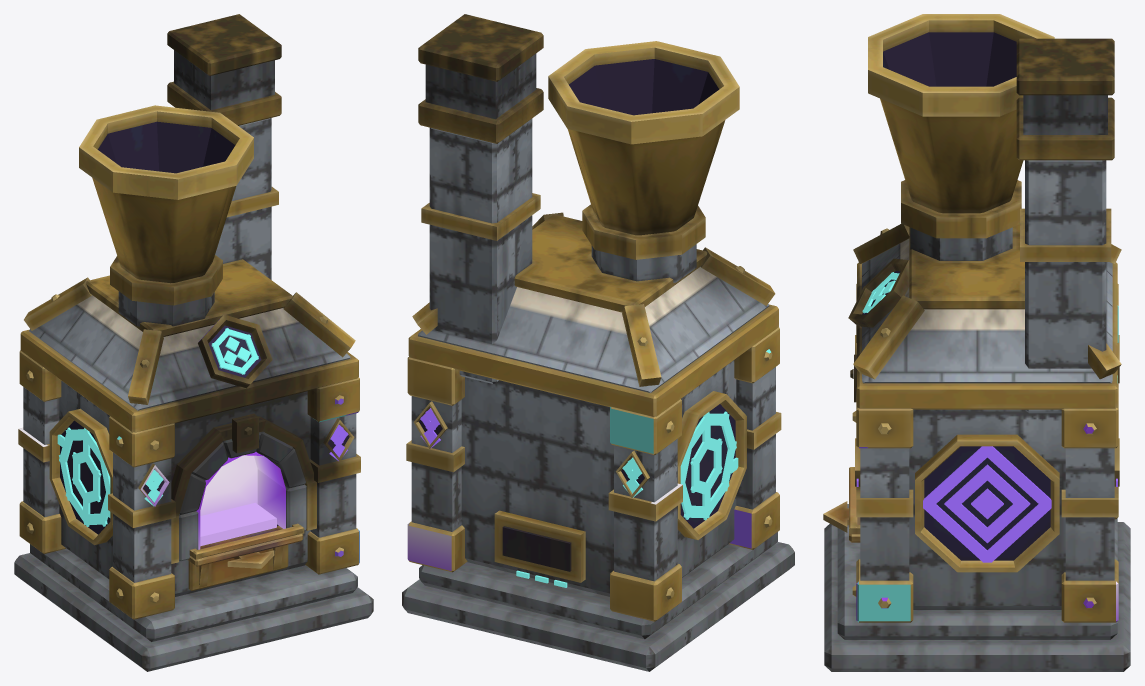
File: arcane_forge.glb
3 renders of one model, left to right at view 1: azimuth 30°, elevation 25°; view 2: azimuth 150°, elevation 25°; view 3: azimuth 270°, elevation 25°, orthographic. The views are drawn at different scales.
Parts seen in each view (by area): view 1: forge_body, glow_mouth, glow_runes; view 2: forge_body, glow_runes; view 3: forge_body, glow_runes.
Part boxes in pixels (x1=…): forge_body: x1=14, y1=14, x2=373, y2=671; glow_mouth: x1=196, y1=452, x2=285, y2=549; glow_runes: x1=57, y1=328, x2=348, y2=526; forge_body: x1=402, y1=14, x2=794, y2=671; glow_runes: x1=420, y1=408, x2=738, y2=587; forge_body: x1=823, y1=14, x2=1130, y2=671; glow_runes: x1=856, y1=272, x2=1117, y2=562.
Size of the model in its own units: 0.947 by 2 by 0.944.
4 materials, 4 textured.
